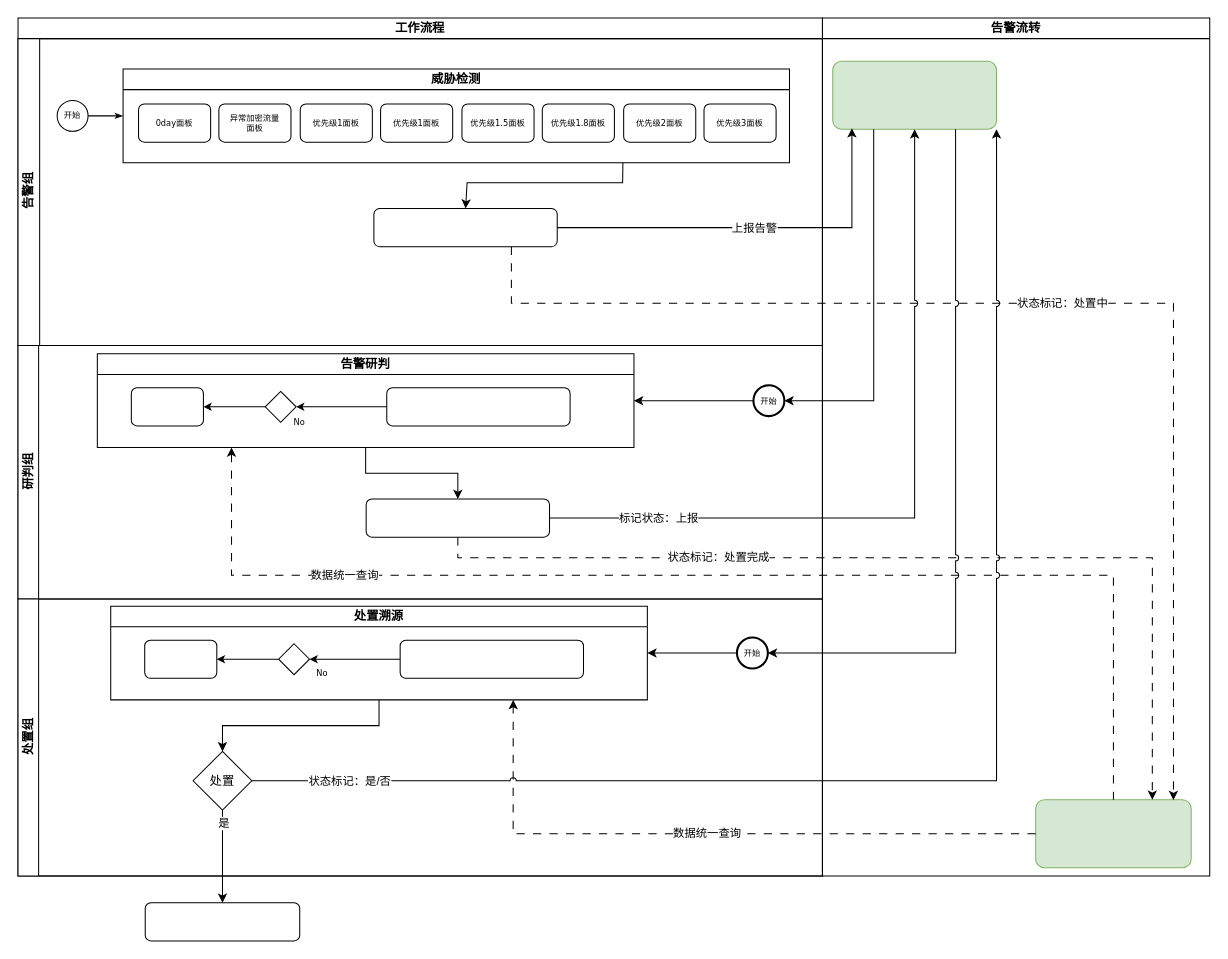
Some shapes in this 1228 by 959 pixel diagram are drawn without their labels. The shapes that lost their labels are listed below. From the top down, each one's centre as x and y in pixels, then its label:
At pixel 914 94: "在线WPS表".
At pixel 465 227: "发现告警/事件".
At pixel 457 517: "确定告警/事件上报".
At pixel 1113 833: "AI平台".
At pixel 222 921: "事件处置".
